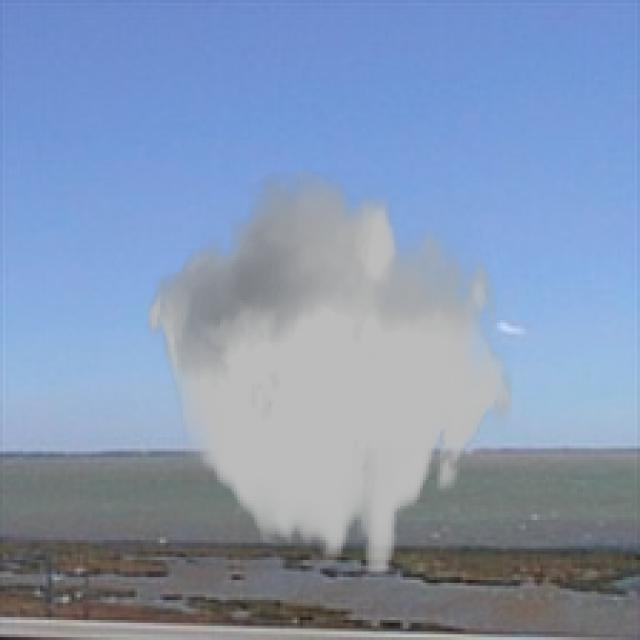smoke: (146, 172, 514, 574)
